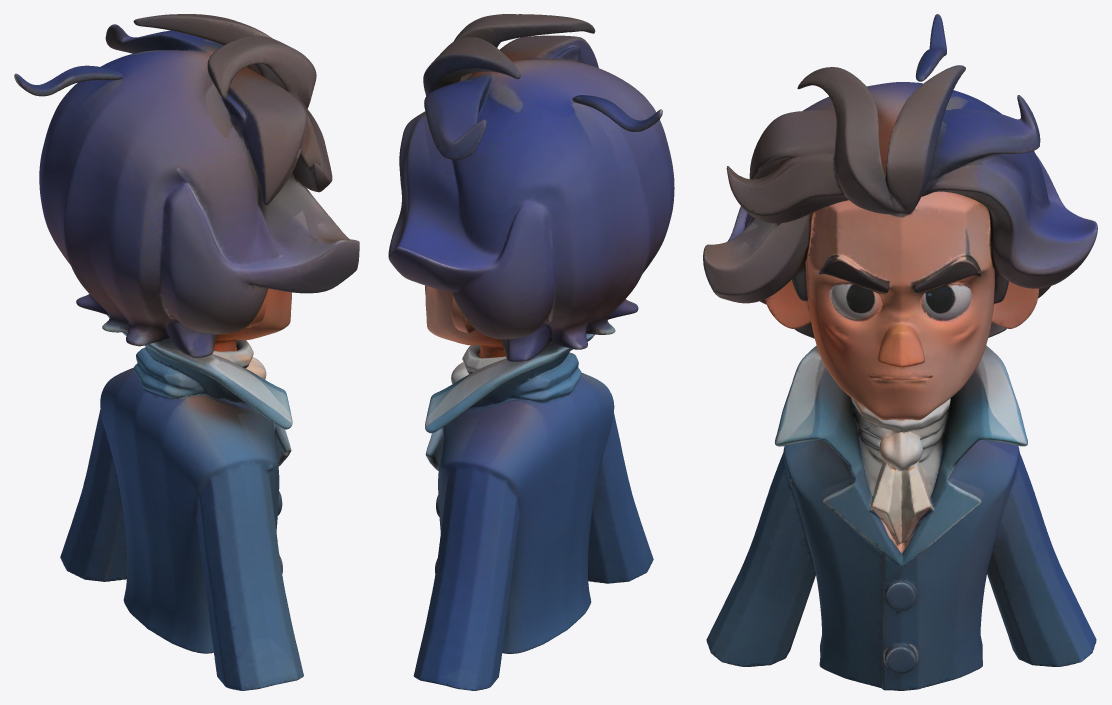
Rendered from composer_beethoven.glb.
3 views of the same model, side by side, from view 1: azimuth 30°, elevation 25°; view 2: azimuth 150°, elevation 25°; view 3: azimuth 270°, elevation 25° (orthographic).
Parts seen in each view (by area): view 1: tripo_node_c5b8b5a2-a9a8-485b-bf45-e5c9a98b01b7; view 2: tripo_node_c5b8b5a2-a9a8-485b-bf45-e5c9a98b01b7; view 3: tripo_node_c5b8b5a2-a9a8-485b-bf45-e5c9a98b01b7.
Boxes of the visible parts, x1,y1,x2,y2 form: tripo_node_c5b8b5a2-a9a8-485b-bf45-e5c9a98b01b7: (14,14,359,690); tripo_node_c5b8b5a2-a9a8-485b-bf45-e5c9a98b01b7: (388,14,674,690); tripo_node_c5b8b5a2-a9a8-485b-bf45-e5c9a98b01b7: (703,14,1097,690).
Size of the model in its own units: 0.4978 by 1 by 0.6136.
Materials: 1 (1 with a texture image).
